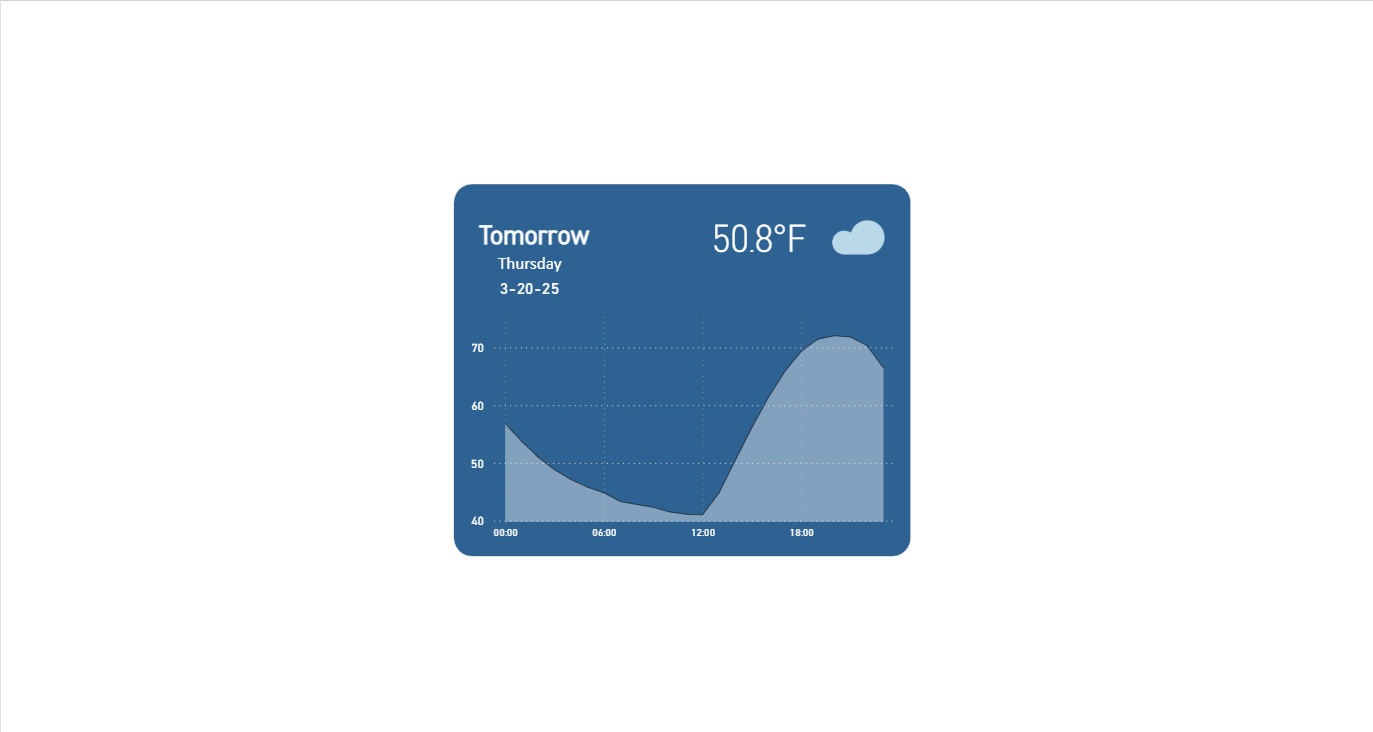

This screenshot's page, from the dashboard's own definition file:
{"tool":"powerbi","page":{"name":"TomorrowTemp","canvas":[1280,720],"ordinal":2},"visuals":[{"type":"shape","box":[421.4,208.6,425.5,346.8],"z":0},{"type":"textbox","box":[436.9,236.7,123.6,42.7],"z":1000},{"type":"cardVisual","fields":{"Data":["Min(FutureForecast.Weather Icon)"]},"box":[747.8,207.6,99.1,97.3],"z":2000},{"type":"card","fields":{"Values":["Min(FutureForecast.Day of Week)"]},"box":[423.9,267.8,135.2,24],"z":3000},{"type":"card","fields":{"Values":["Min(FutureForecast.Days)"]},"box":[424.7,292.6,135.2,28],"z":4000},{"type":"card","fields":{"Values":["Sum(FutureForecast.Median Temperature)"]},"box":[640.5,223.1,130,65.5],"z":5000},{"type":"areaChart","fields":{"Y":["Sum(Forecast.Temperature)"],"Category":["Forecast.Time"]},"box":[435.7,324.9,396.9,218.1],"z":6000}]}

Visuals, with their boxes on the page's 1280x720 design canvas (x1, y1, x2, y2). These are canvas units, not pixel positions in the 1373x732 screenshot, which may show the page scaled, cropped or inside an application window:
shape: 421 209 847 555
textbox: 437 237 560 279
cardVisual - Min(FutureForecast.Weather Icon): 748 208 847 305
card - Min(FutureForecast.Day of Week): 424 268 559 292
card - Min(FutureForecast.Days): 425 293 560 321
card - Sum(FutureForecast.Median Temperature): 640 223 770 289
areaChart - Sum(Forecast.Temperature) x Forecast.Time: 436 325 833 543
